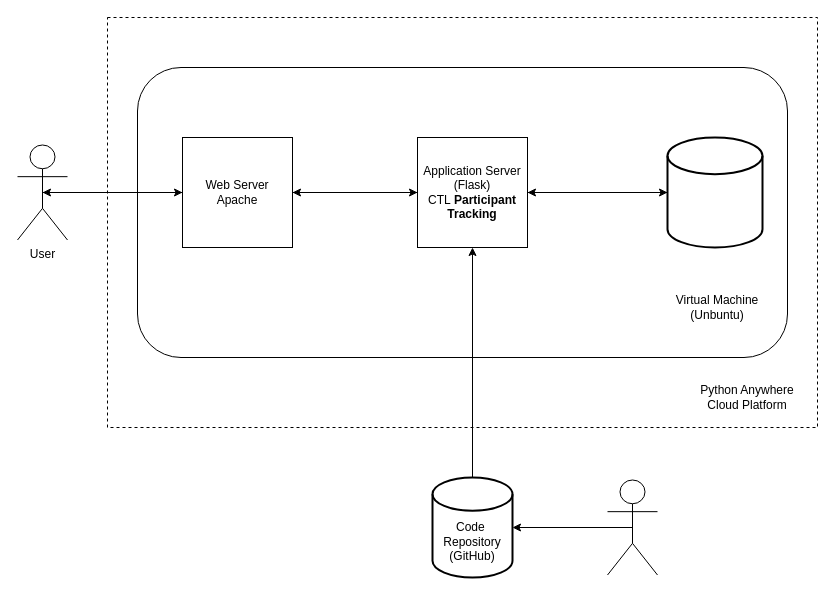
The diagram is 835 pixels wide and 613 high, and some of its shapes have lost their labels. Each missing label, with the centre of its shape:
Database SQLite Users + Events: point 714,192
Developer: point 632,527
